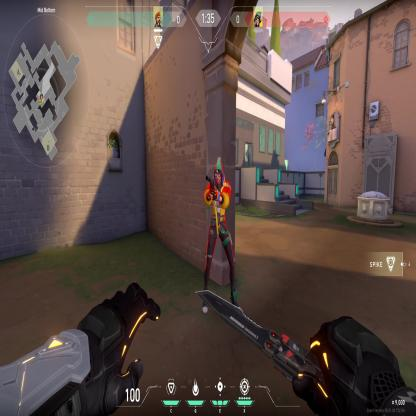enemy: (201, 154, 243, 320)
